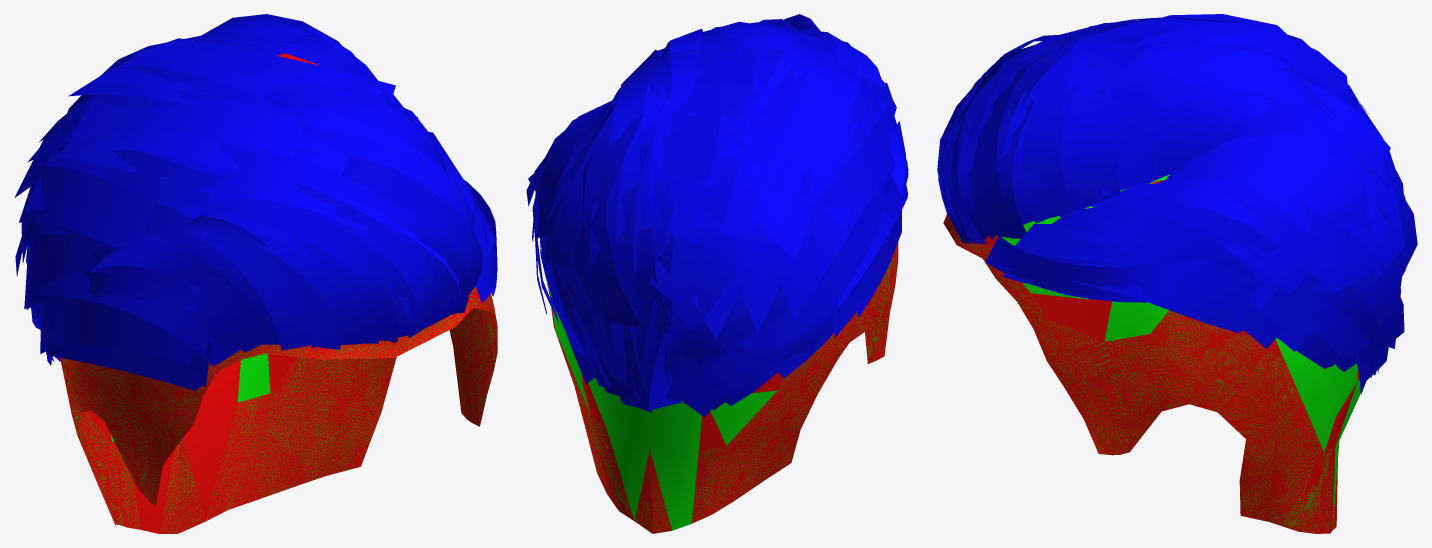
Rendered from hair_011.obj.
The picture shows the model from 3 angles, left to right: view 1: azimuth 30°, elevation 25°; view 2: azimuth 150°, elevation 25°; view 3: azimuth 270°, elevation 25°; orthographic projection. The views are drawn at different scales.
Size of the model in its own units: 17.29 by 22.35 by 19.85.
